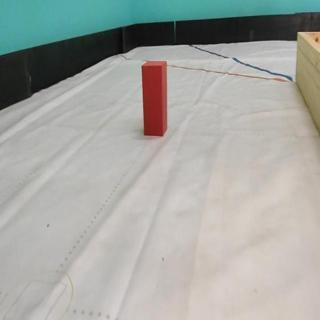redbox: (141, 59, 167, 137)
